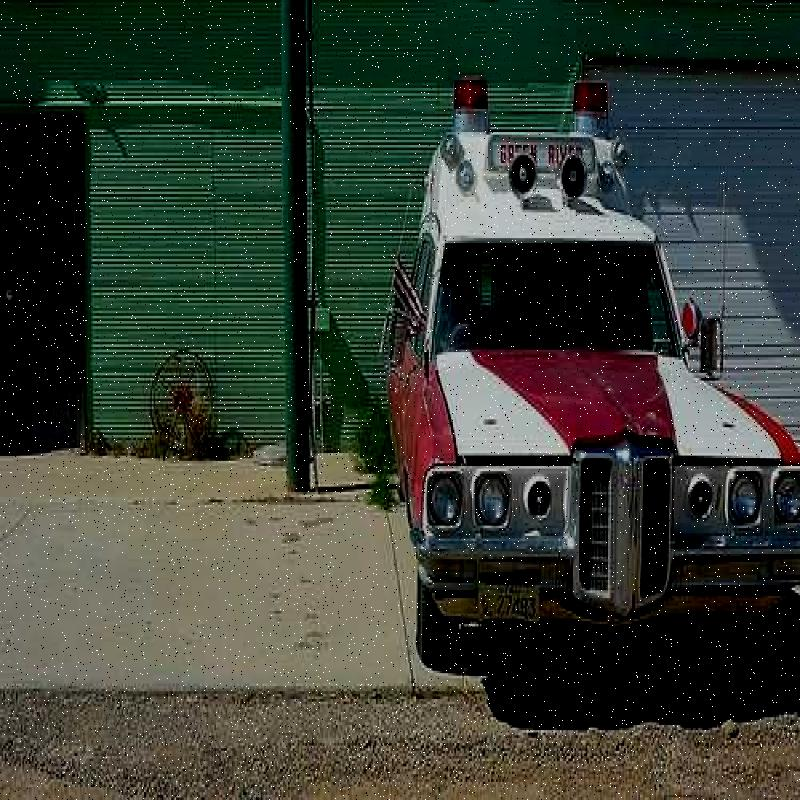AmbulanceSiren: (443, 71, 498, 148)
